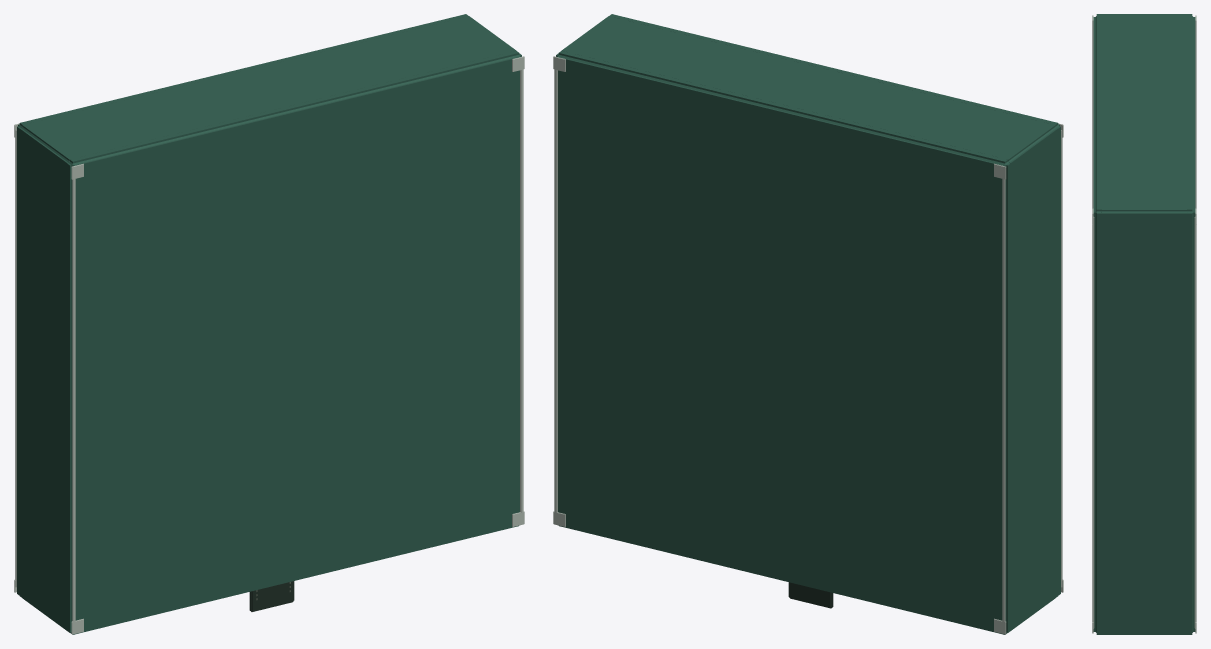
The model's file is record-case.glb.
3 views of the same model, side by side, from view 1: azimuth 30°, elevation 25°; view 2: azimuth 150°, elevation 25°; view 3: azimuth 270°, elevation 25° (orthographic). The views are drawn at different scales.
Visible parts, largest first — view 1: Case_CasePaint, Case_EdgeMetal, Tray_Felt; view 2: Case_CasePaint, Case_EdgeMetal, Tray_Felt; view 3: Case_CasePaint, Case_EdgeMetal.
Part boxes in pixels (x1,y1,x2,y2): Case_CasePaint: [17, 14, 521, 634]; Case_EdgeMetal: [14, 56, 524, 634]; Tray_Felt: [249, 581, 294, 611]; Case_CasePaint: [556, 14, 1060, 634]; Case_EdgeMetal: [553, 56, 1063, 634]; Tray_Felt: [788, 582, 833, 608]; Case_CasePaint: [1093, 14, 1195, 634]; Case_EdgeMetal: [1092, 15, 1196, 633].
Size of the model in its own units: 3.12 by 3.41 by 0.692.
